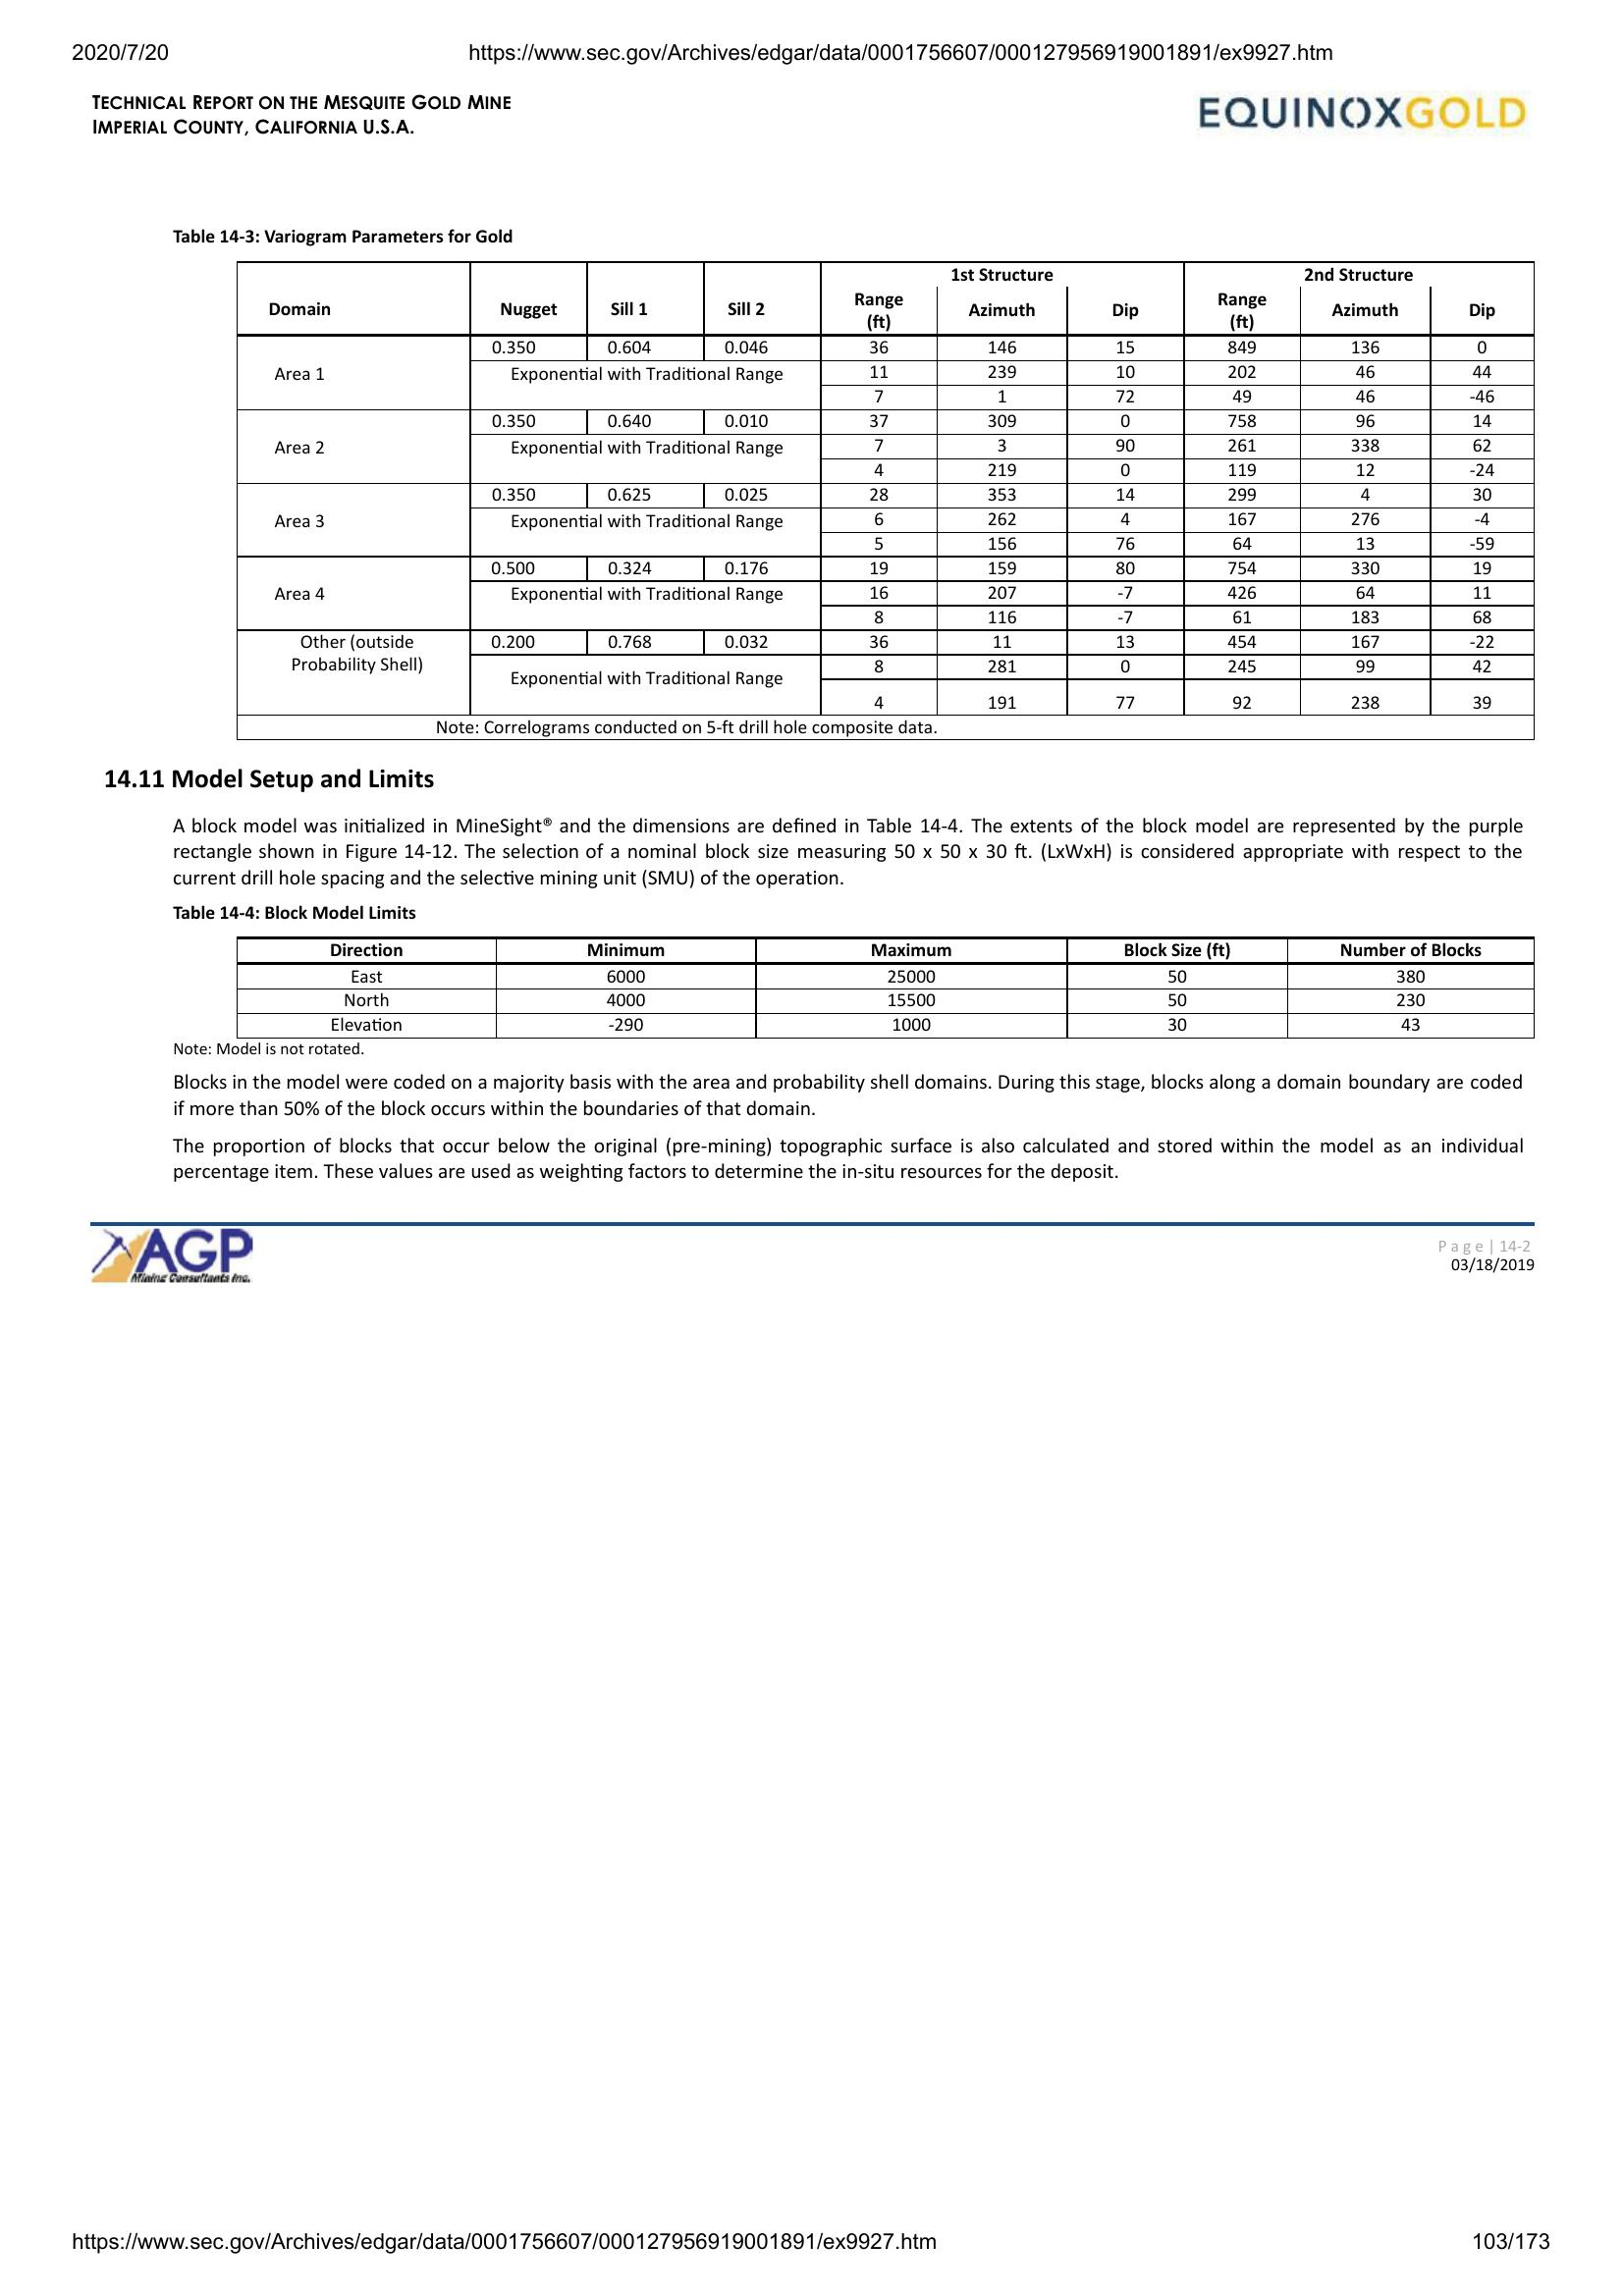table: (232, 253, 1544, 746), (232, 925, 1542, 1046)
